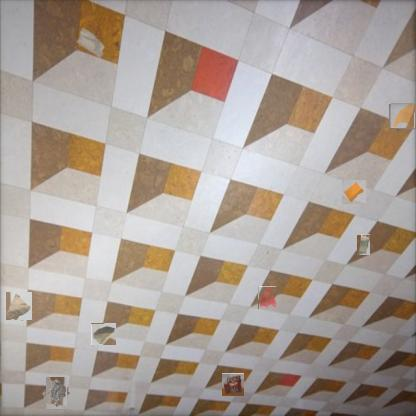dirty: (76, 26, 106, 58), (43, 379, 69, 407), (6, 292, 32, 320), (342, 180, 366, 204), (91, 323, 116, 345), (222, 373, 244, 396), (356, 234, 370, 255)
liquid: (390, 104, 415, 129), (258, 286, 276, 309)
